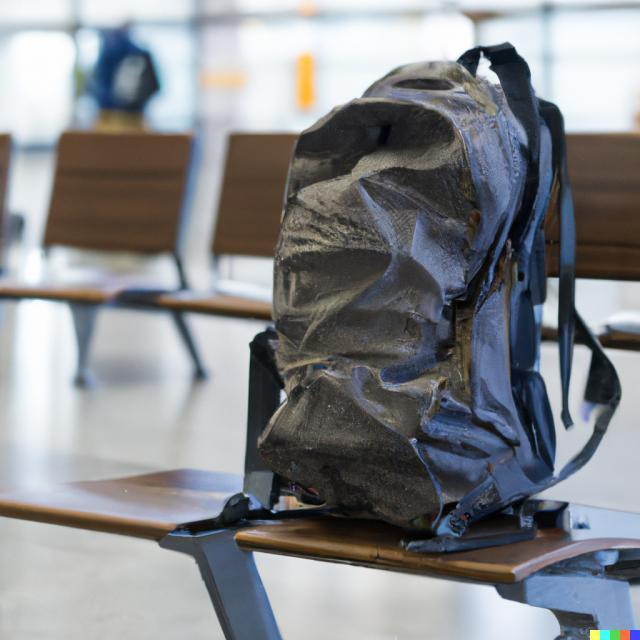Backpacks: (229, 36, 626, 555)
